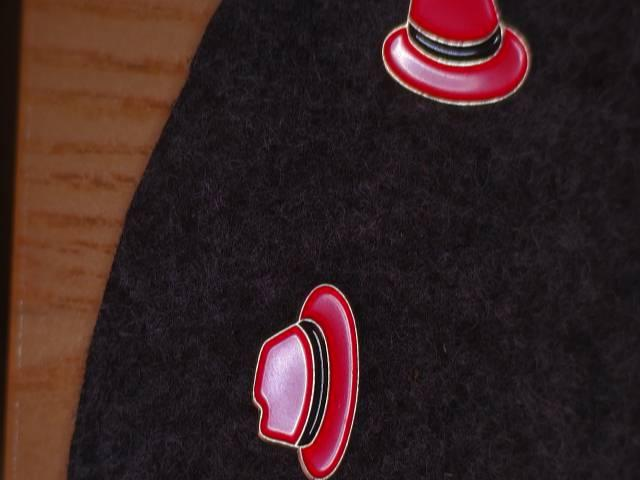Red-Hat: (237, 271, 382, 480), (369, 0, 550, 128)
